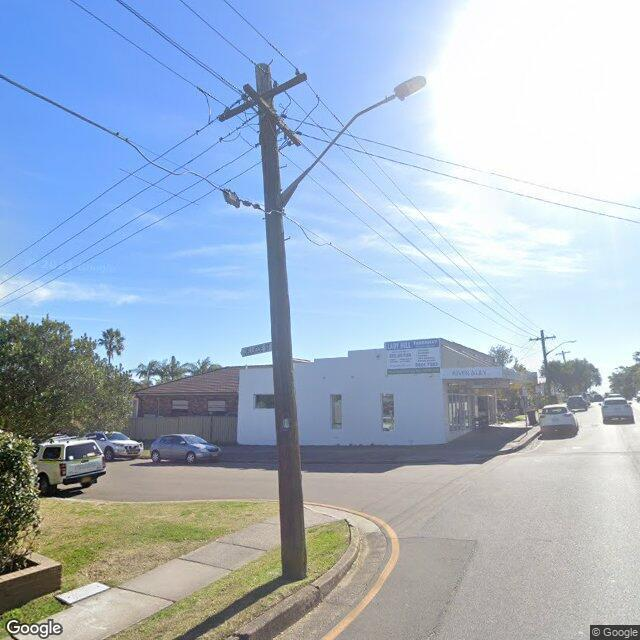crossarm: (218, 68, 307, 122), (241, 84, 303, 148), (529, 335, 556, 341), (556, 351, 570, 355)
streetlight: (274, 74, 428, 210), (544, 340, 576, 356)
timber-pole: (255, 62, 308, 580), (540, 330, 550, 405), (562, 350, 566, 364)
